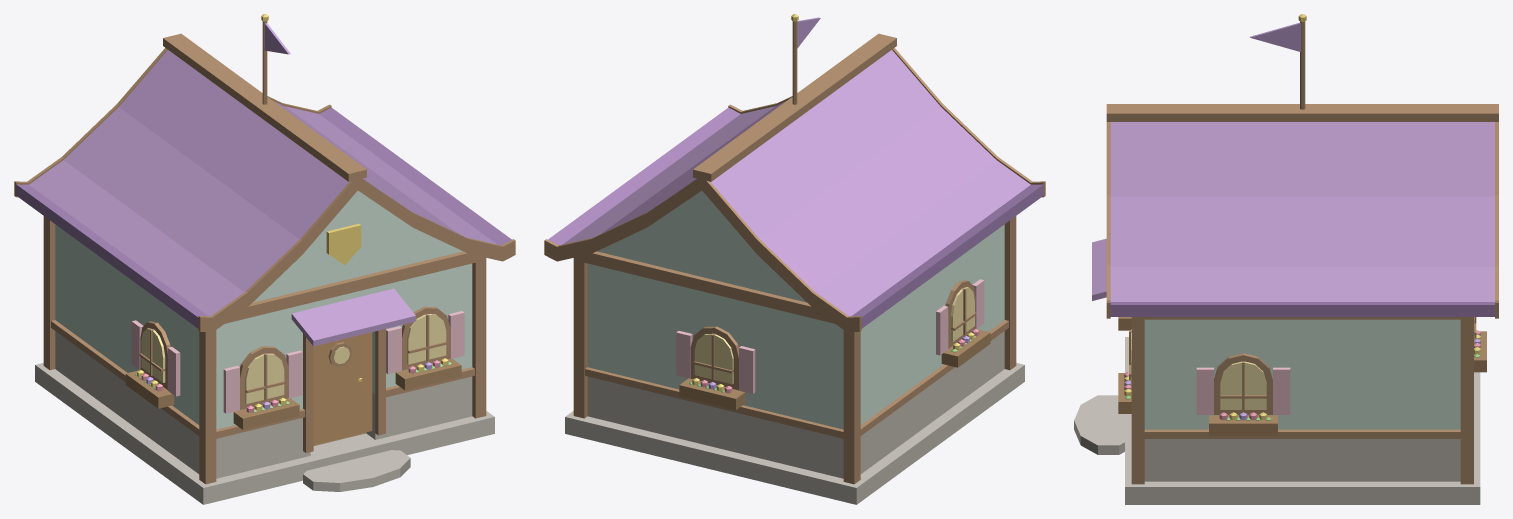
The model's file is hall_mint.glb.
3 views of the same model, side by side, from view 1: azimuth 30°, elevation 25°; view 2: azimuth 150°, elevation 25°; view 3: azimuth 270°, elevation 25° (orthographic). The views are drawn at different scales.
Visible parts, largest first — view 1: Player; view 2: Player; view 3: Player.
Part boxes in pixels (x1=…): Player: x1=14, y1=14, x2=515, y2=504; Player: x1=544, y1=14, x2=1045, y2=504; Player: x1=1074, y1=14, x2=1498, y2=504.
Bounding box in the file's own units: 5.84 × 6.97 × 6.45.
